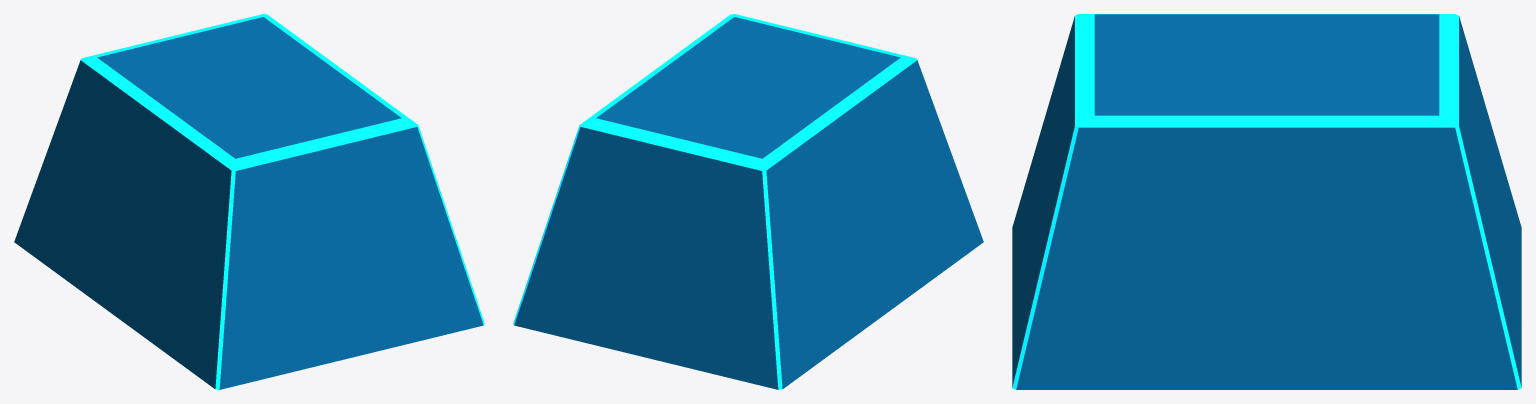
The model's file is iron-ingot.glb.
The picture shows the model from 3 angles, left to right: view 1: azimuth 30°, elevation 25°; view 2: azimuth 150°, elevation 25°; view 3: azimuth 270°, elevation 25°; orthographic projection. The views are drawn at different scales.
Visible parts, largest first — view 1: Cube.208; view 2: Cube.208; view 3: Cube.208.
Boxes of the visible parts, x1=… form: Cube.208: x1=14, y1=14, x2=484, y2=389; Cube.208: x1=513, y1=14, x2=983, y2=389; Cube.208: x1=1012, y1=14, x2=1521, y2=389.
Bounding box in the file's own units: 2.28 × 1.58 × 3.
